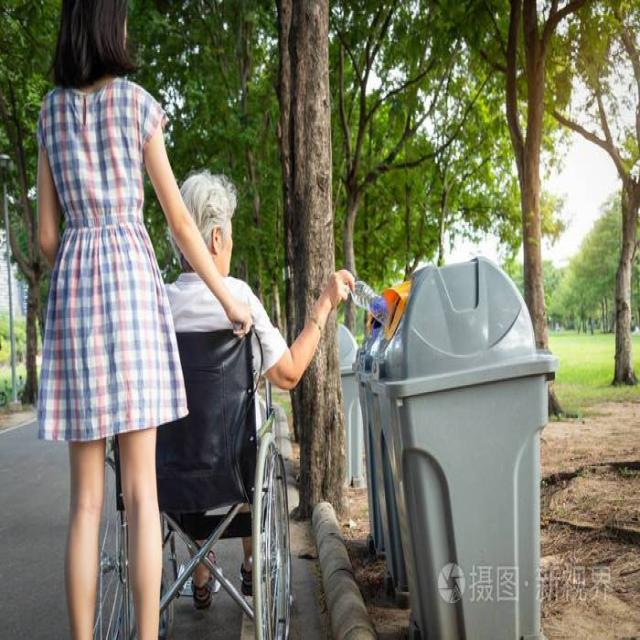wheelchairs: (77, 304, 309, 640)
